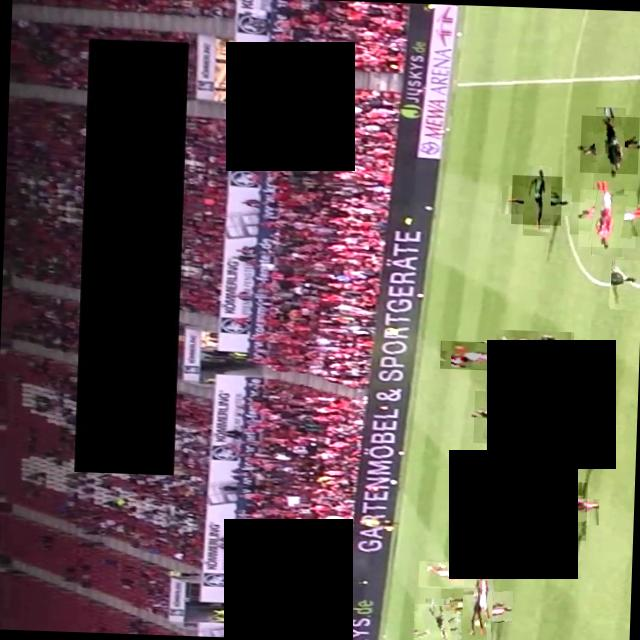referee: (522, 424, 602, 465)
soccer-player: (578, 115, 638, 174), (576, 189, 636, 248), (528, 480, 586, 540), (453, 463, 530, 502), (472, 390, 526, 444), (449, 578, 502, 632), (509, 174, 562, 226), (494, 329, 574, 361), (438, 340, 506, 370), (607, 259, 640, 310), (416, 560, 476, 588), (412, 603, 457, 640)
